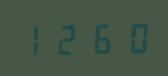one: (18, 21, 50, 56)
six: (84, 19, 116, 55)
two: (51, 20, 83, 56)
zero: (117, 19, 149, 54)
